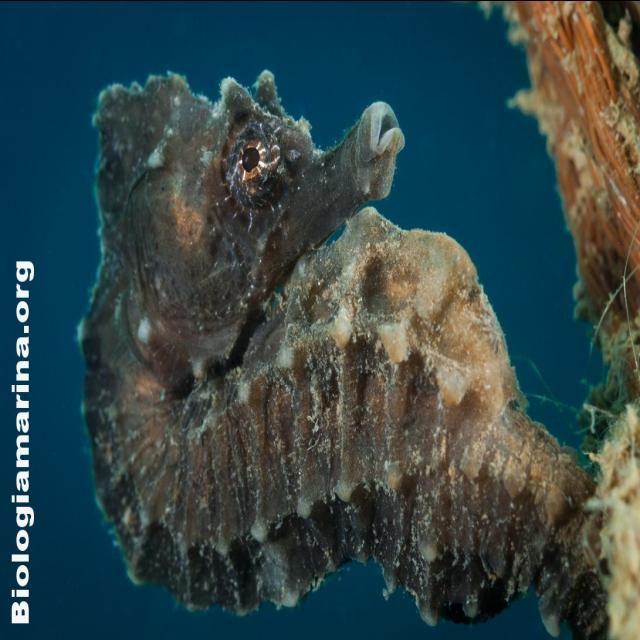Hippo: (68, 49, 418, 386)
